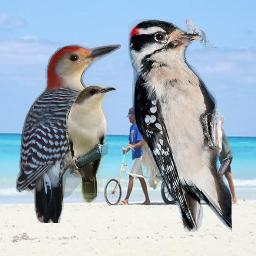Cuckoo: (66, 85, 117, 204)
Woodpecker: (128, 19, 232, 232), (16, 44, 121, 223)
